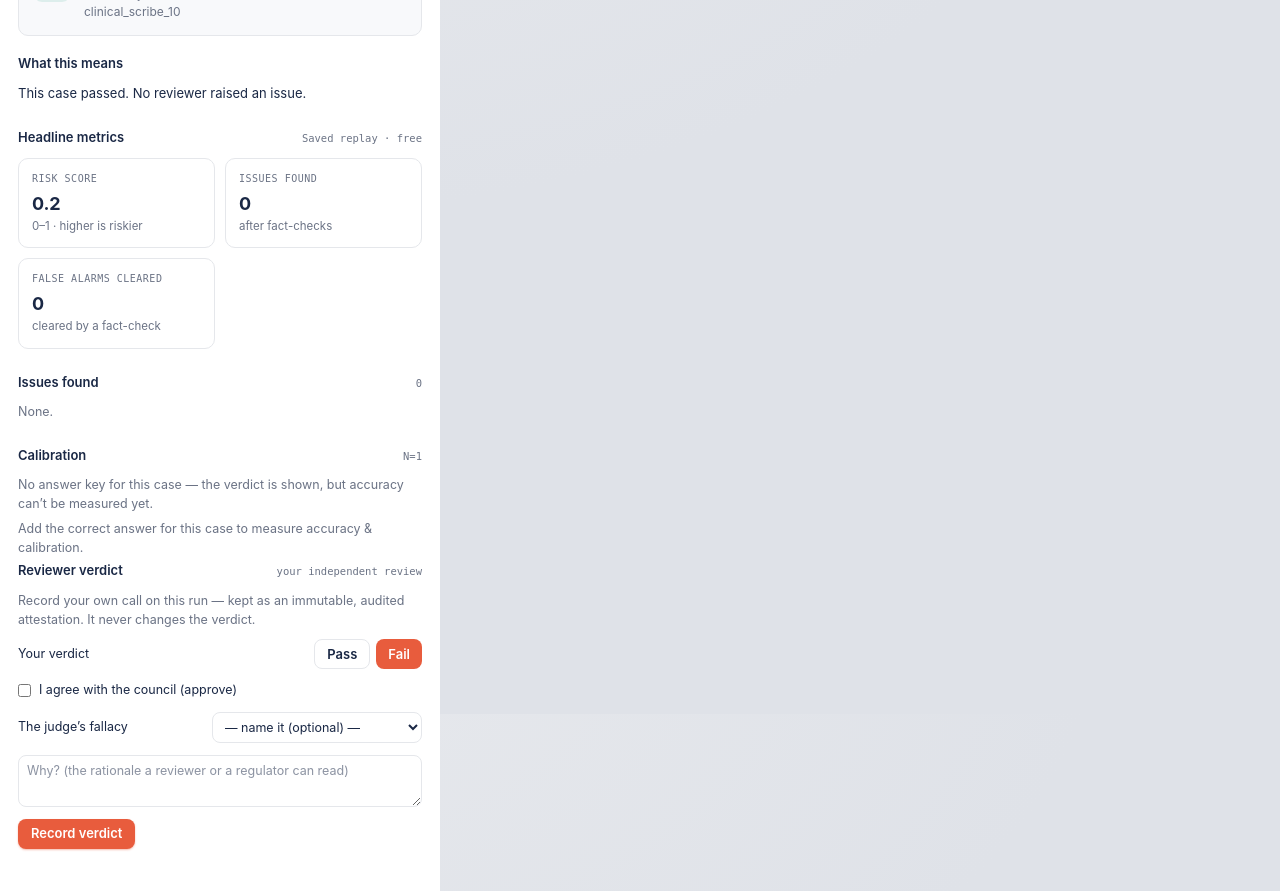
Test: ReportTab — clinician verdict (META-VERDICT-1) › records a DISSENT (fail + named fallacy) against the run via POST /v1/meta-verdict
The image size is (1280, 891).
(page scrolled)
Expected: the element with test id "clinician-verdict" is shown, [18,561,422,849]
Select "Reference Bias" in the dropdown named "Judge fallacy" at (317, 728), box [212,712,422,743]
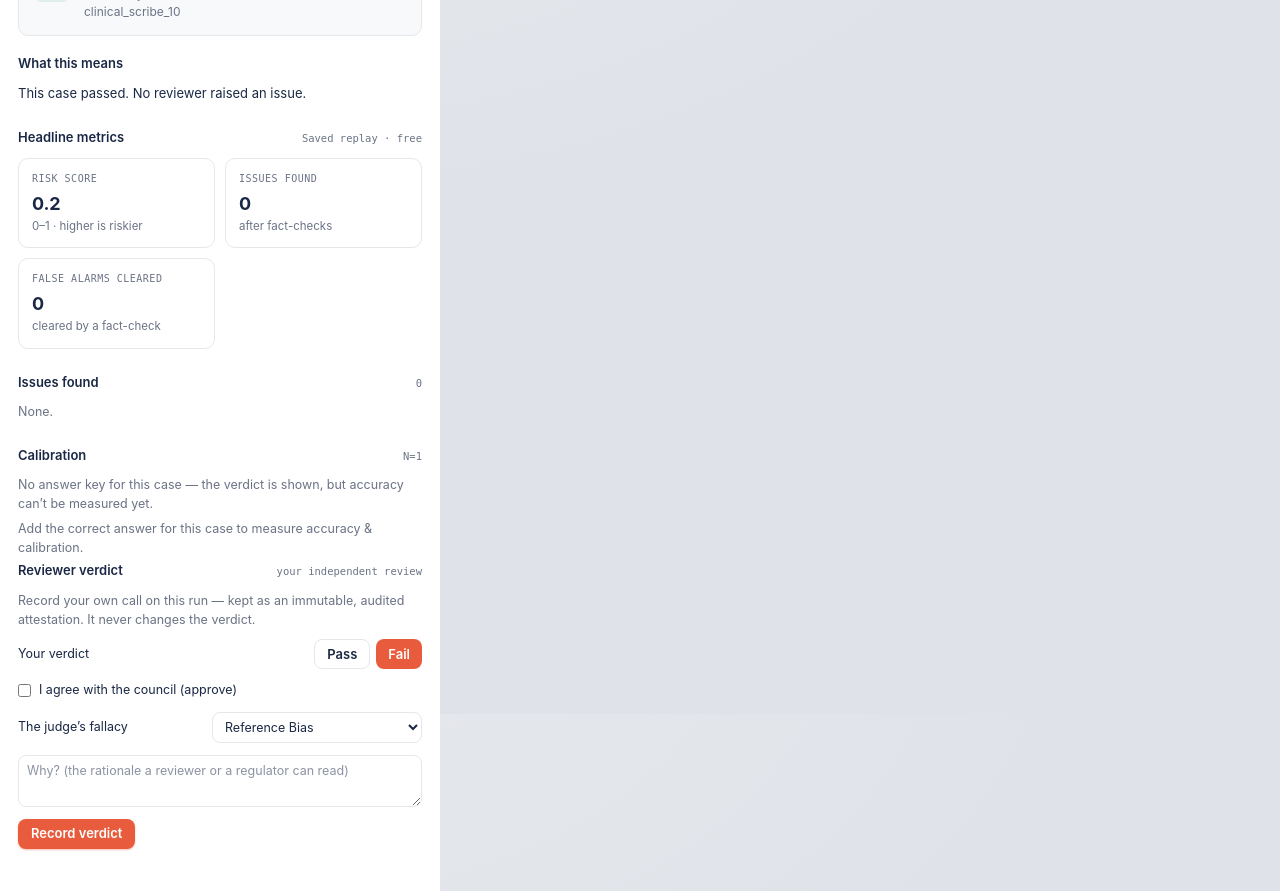
Type "ref note omitted the dissent" into the text box labelled "rationale".
click(220, 781); type("ref note omitted the dissent")  # box [18,755,422,806]
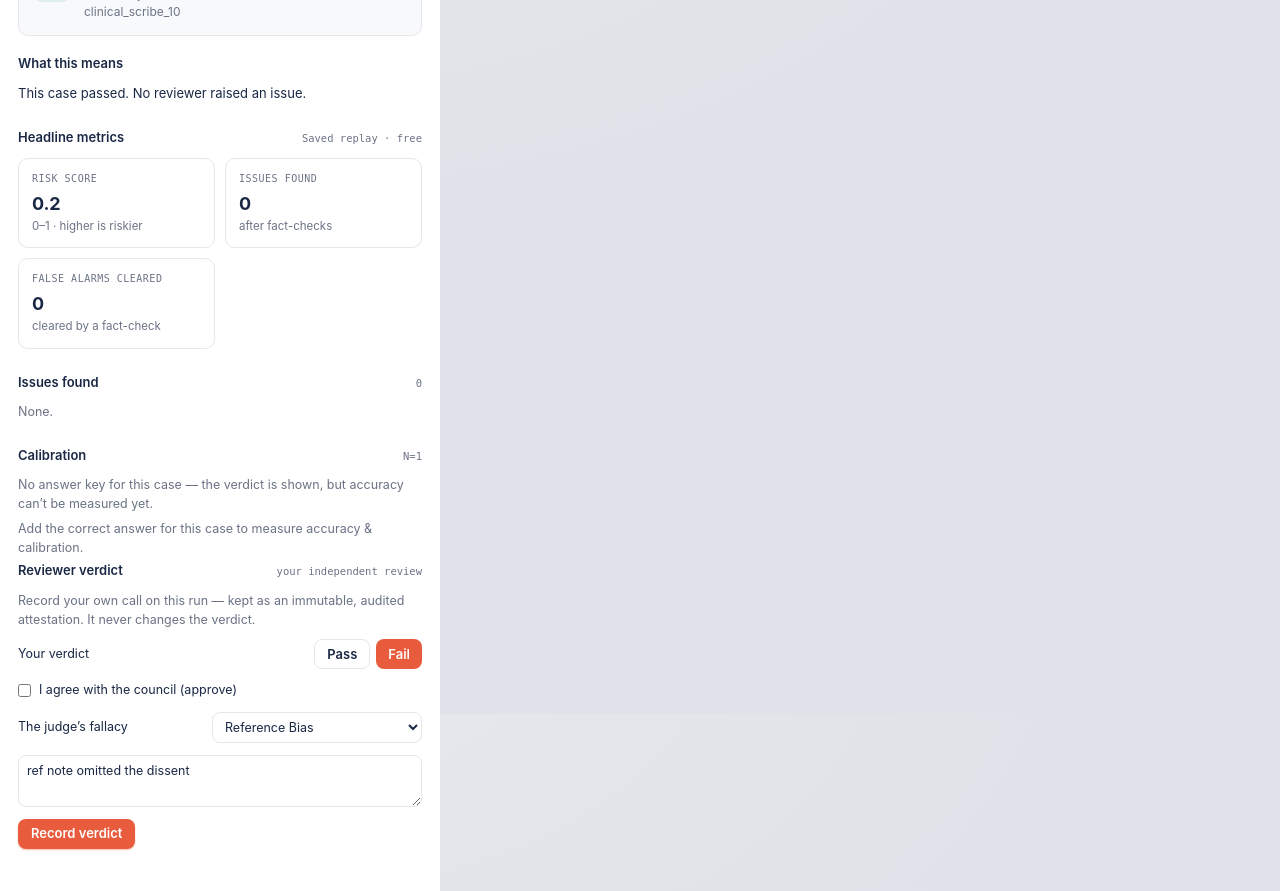
Click the button "Record verdict".
click(77, 834)  # box [18,818,135,848]
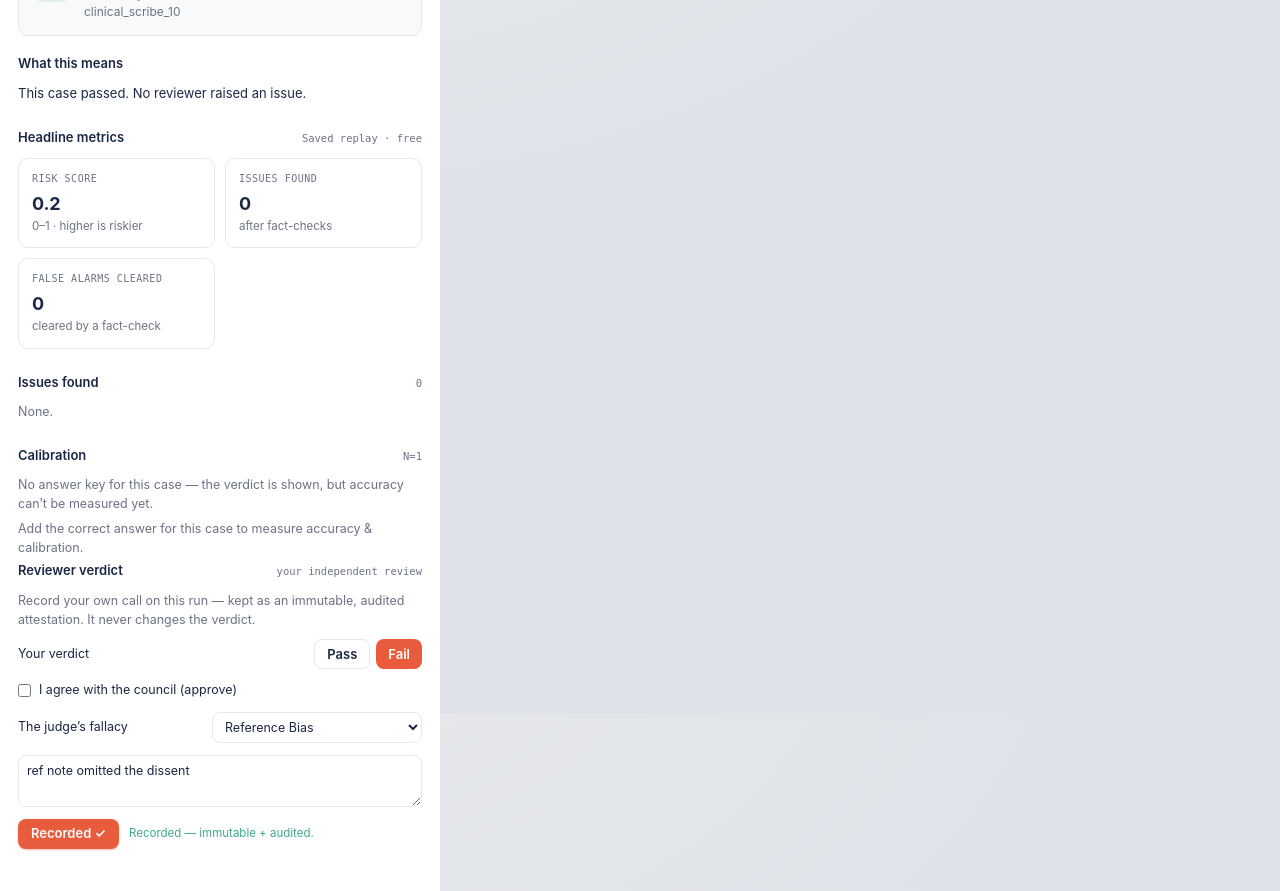
Expected: the button "Recorded ✓" is shown, [18,818,119,848]
